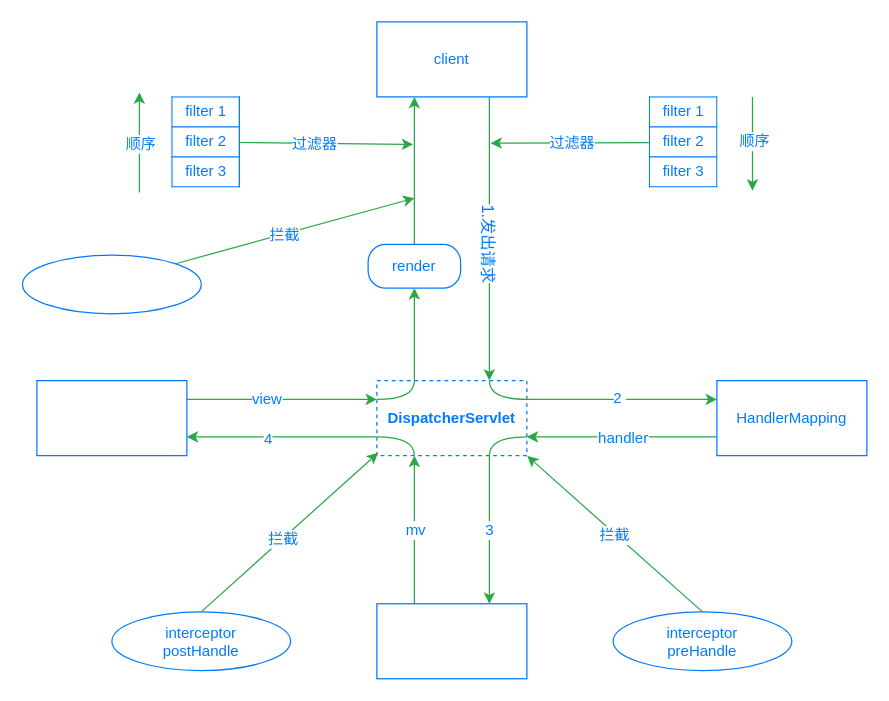
Image size: 889x701. Some labels were removed from this diagram. The shapes that lost their labels are listed below. From the top down, each one's centre as x and y in pixels, then its label:
the point at 111,284: interceptor afterCompletion
the point at 111,417: VewResolver
the point at 451,640: HandlerAdapter
